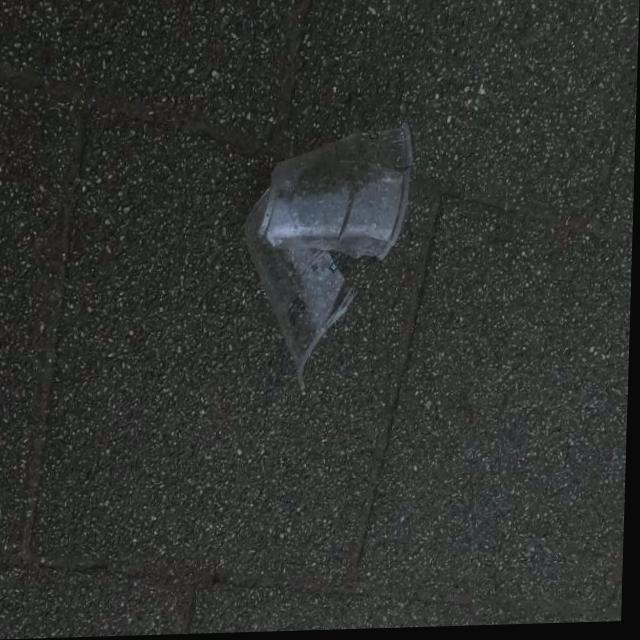Cup: (237, 121, 416, 401)
